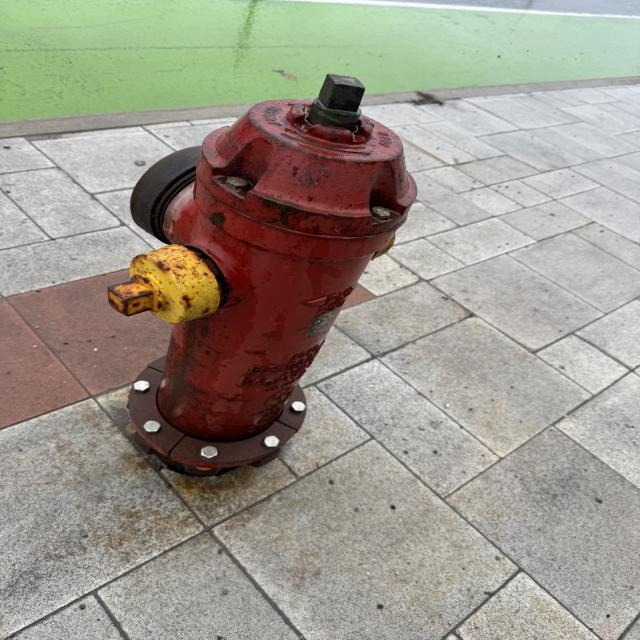Fire hydrant: (106, 72, 419, 478)
